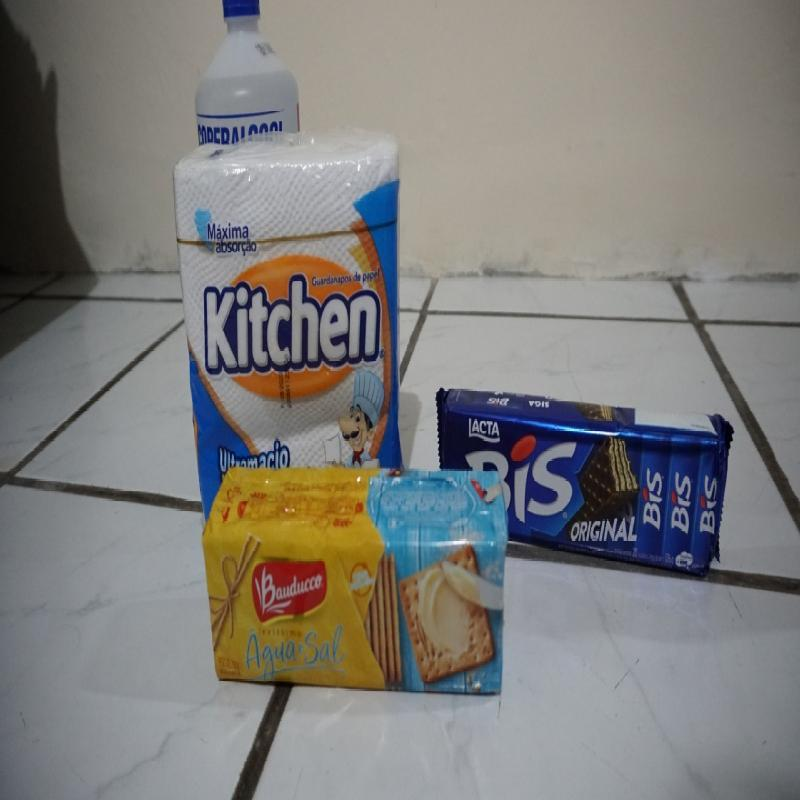Alcohol Bottle: (190, 4, 304, 124)
Cracker: (207, 468, 507, 698)
Napkin: (174, 150, 408, 464)
